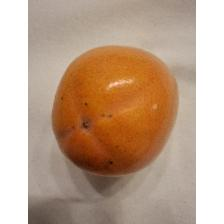Kaki: (51, 44, 184, 182)
